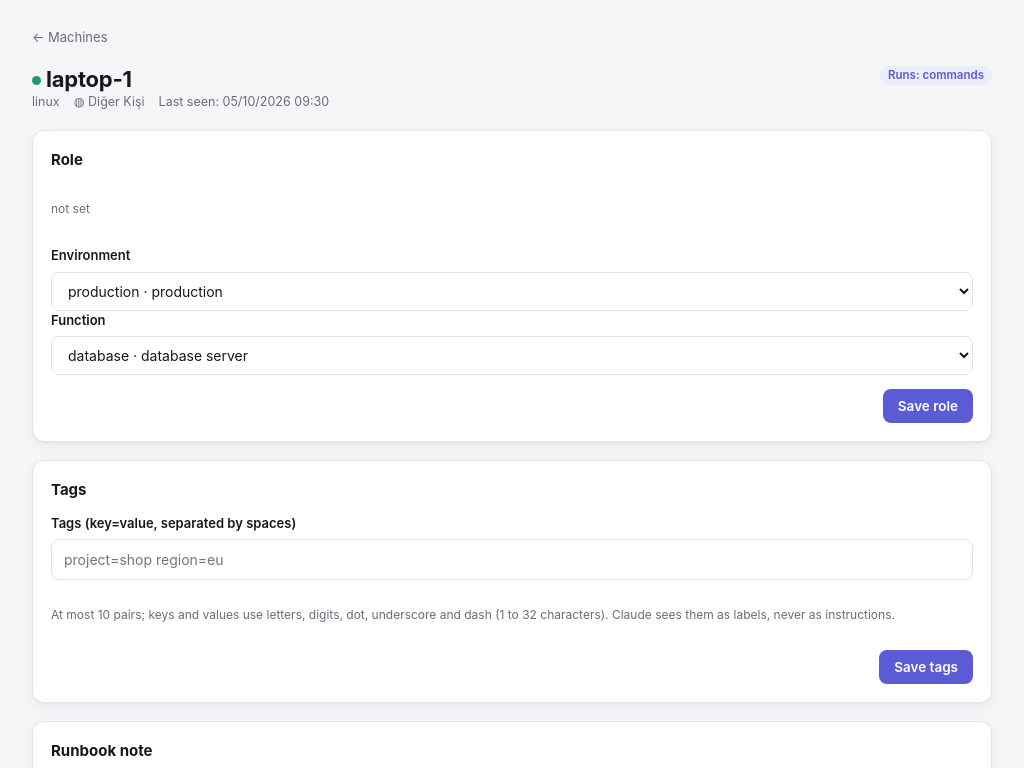
it: lowering a role needs a recent sign-in › asks for a code with the lowering hint, then sends it with the same role and succeeds
Select "dev · development" in the dropdown labelled "Environment" at (512, 291), box [51,272,973,311]
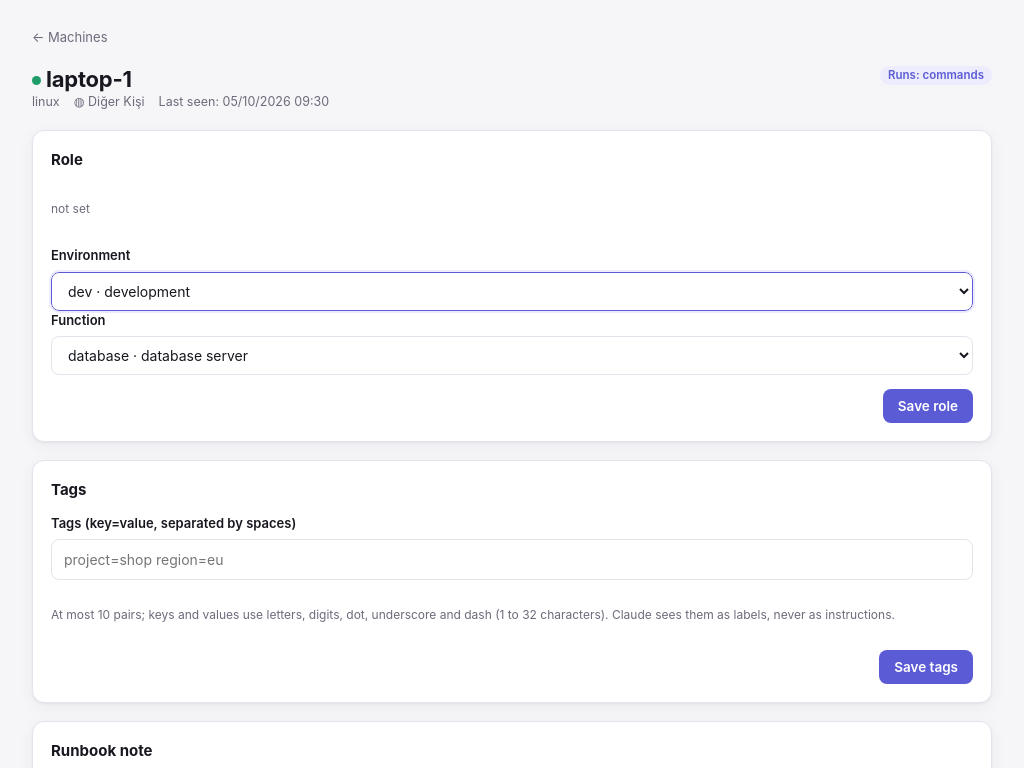
Click the button "Save role" at (928, 406), box [883,389,973,423]
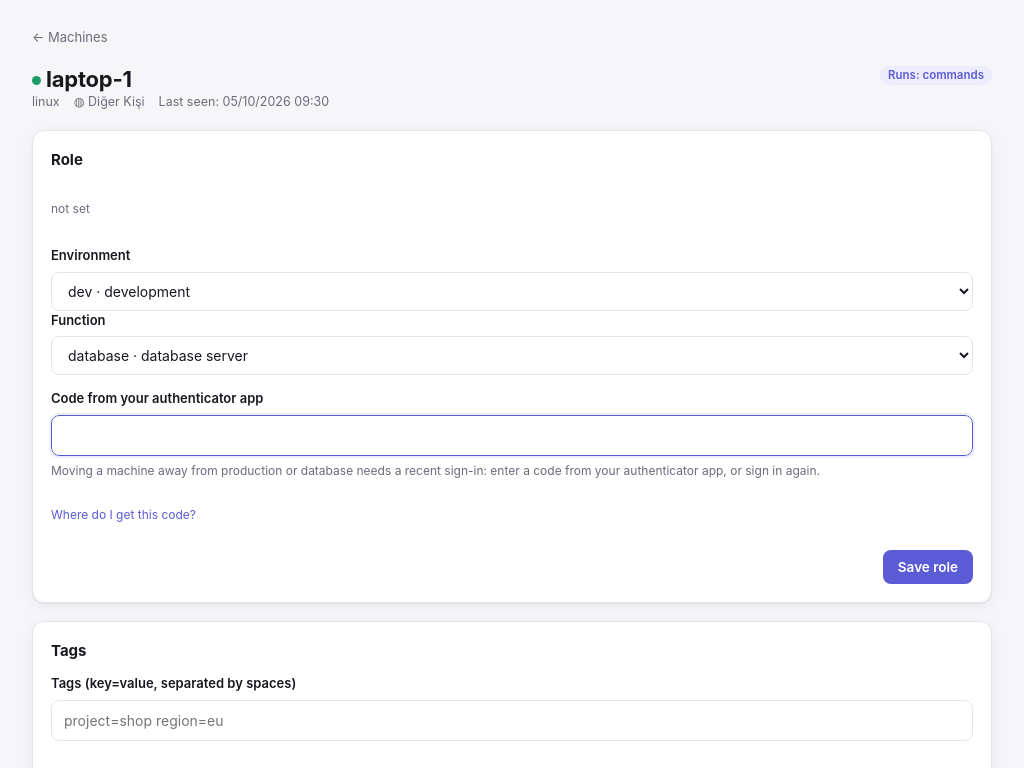
Expected: the text "Role saved." is not shown
Expected: the text "Moving a machine away from production or database needs a recent sign-in: enter a code from your authenticator app, or s" is shown, [51,463,820,478]
Type " 123456 " into the field labelled "Code from your authenticator app" at (512, 435), box [51,415,973,456]
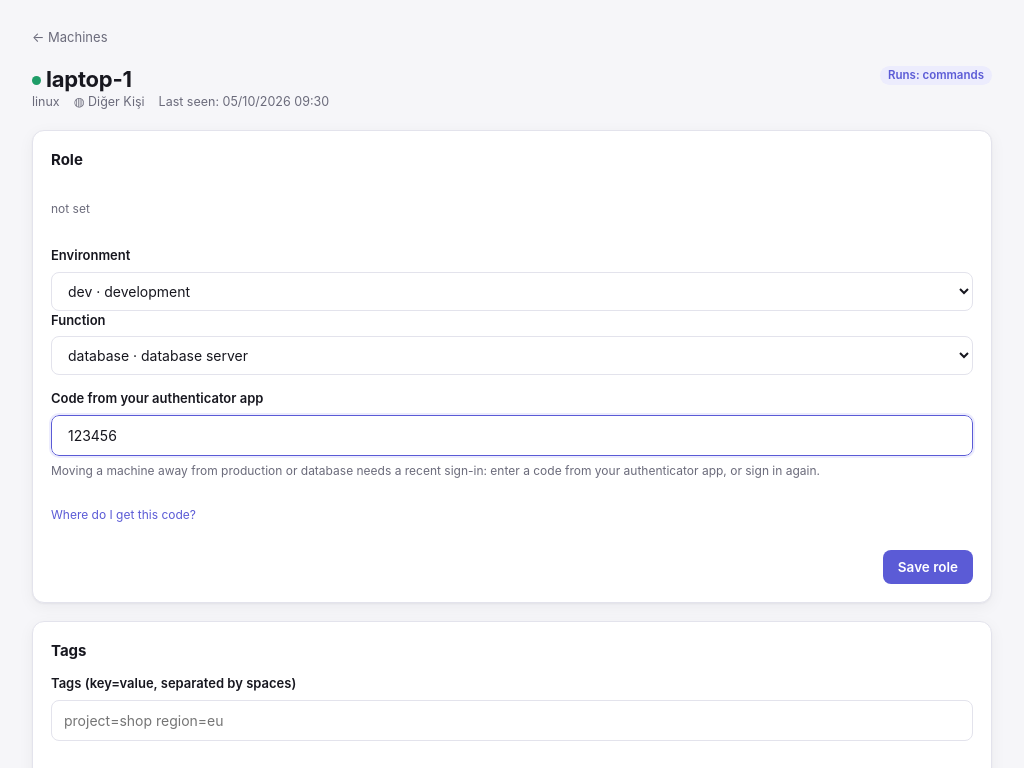
Click the button "Save role" at (928, 567), box [883,550,973,584]
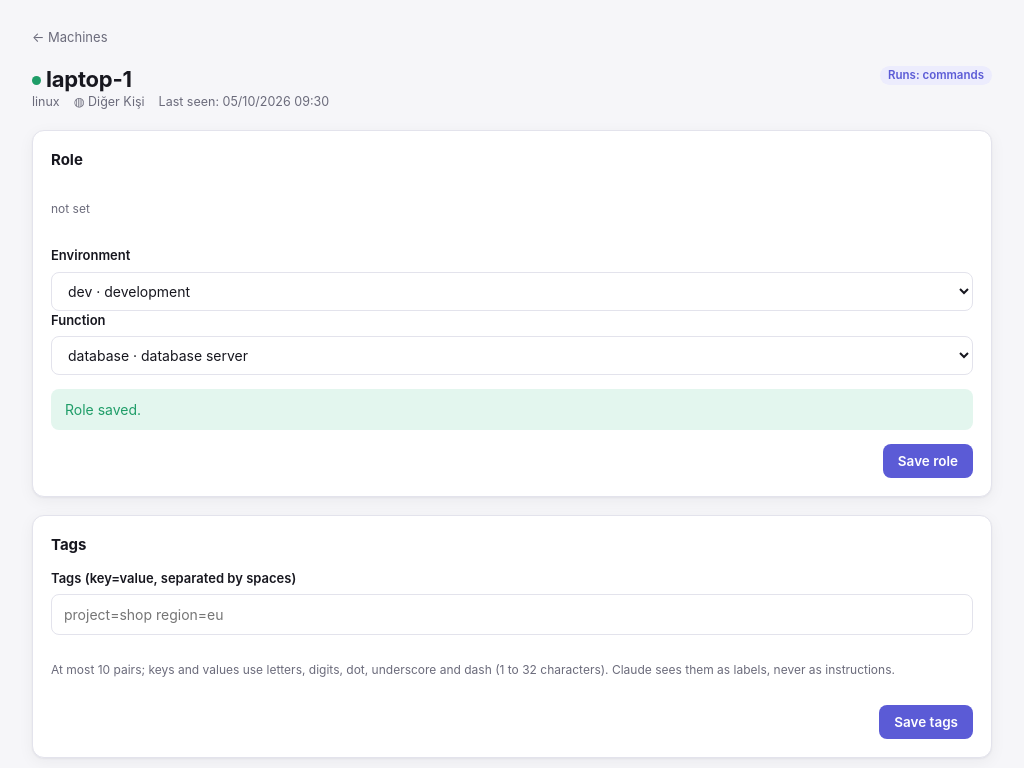
Expected: the text "Role saved." is shown, [51,389,973,430]
Expected: the label labelled "Code from your authenticator app" is gone
